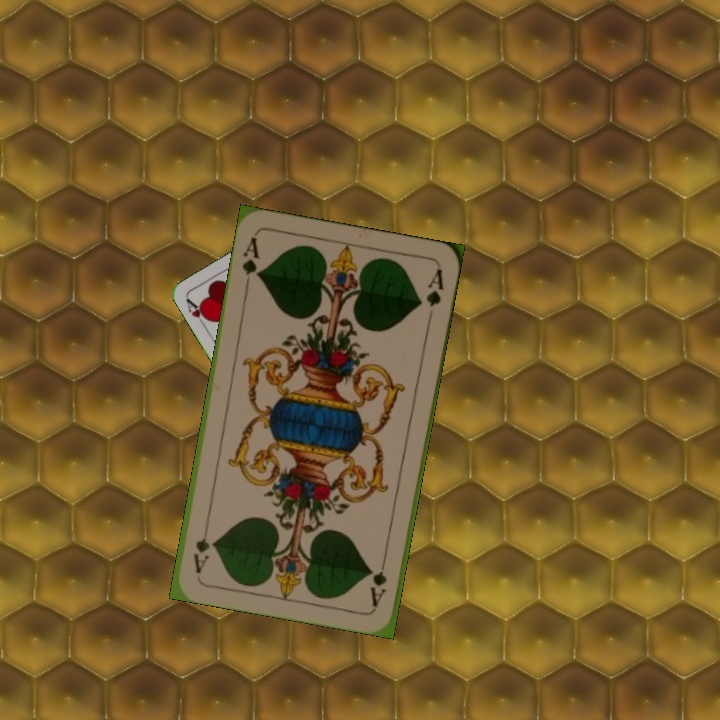GA: (238, 233, 263, 291), (366, 551, 390, 609)
HA: (182, 294, 213, 331)
